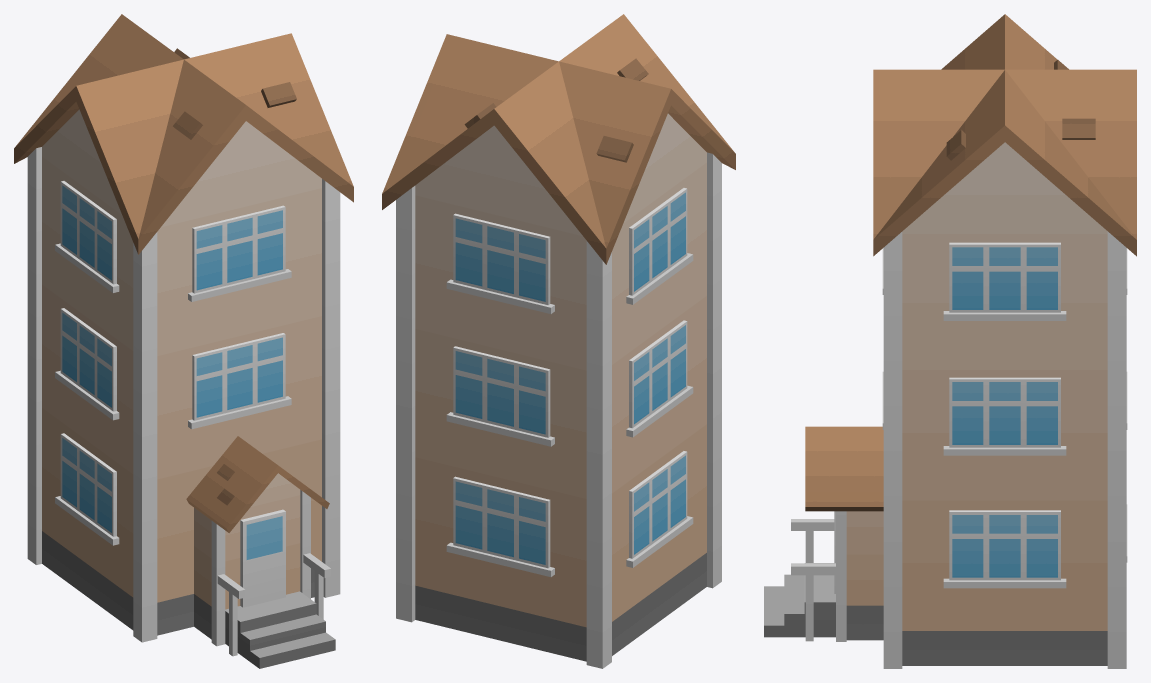
Rendered from village_house_1.glb.
3 renders of one model, left to right at view 1: azimuth 30°, elevation 25°; view 2: azimuth 150°, elevation 25°; view 3: azimuth 270°, elevation 25°, orthographic. The views are drawn at different scales.
Visible parts, largest first — view 1: village_house_1; view 2: village_house_1; view 3: village_house_1.
Part boxes in pixels (x1,y1,x2,y2): village_house_1: [14, 14, 353, 668]; village_house_1: [382, 14, 735, 668]; village_house_1: [764, 14, 1136, 668].
Size of the model in its own units: 2.27 by 5.2 by 3.21.
Materials: 1 (1 with a texture image).
